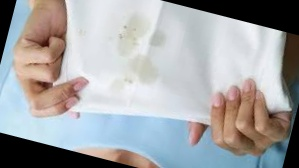oil: (111, 6, 150, 61), (122, 52, 166, 91), (106, 68, 139, 99), (143, 27, 166, 48), (72, 25, 89, 41)
